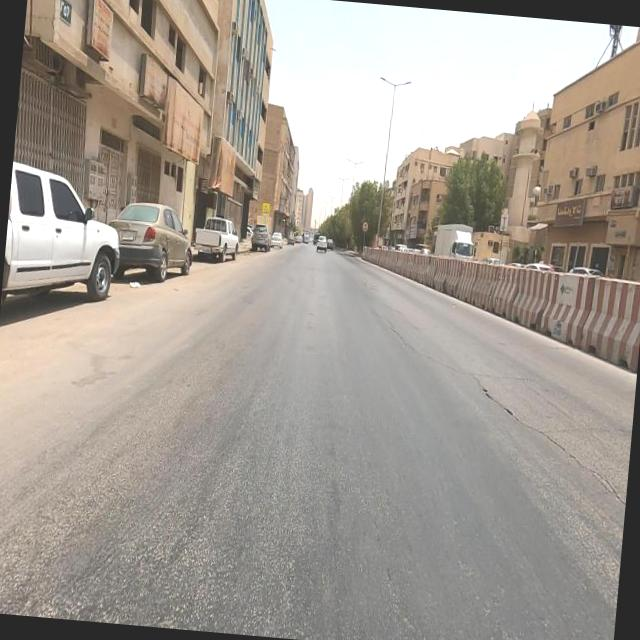debris: (132, 65, 236, 185), (186, 108, 262, 222), (58, 0, 145, 90), (122, 28, 189, 140), (508, 170, 575, 256)
